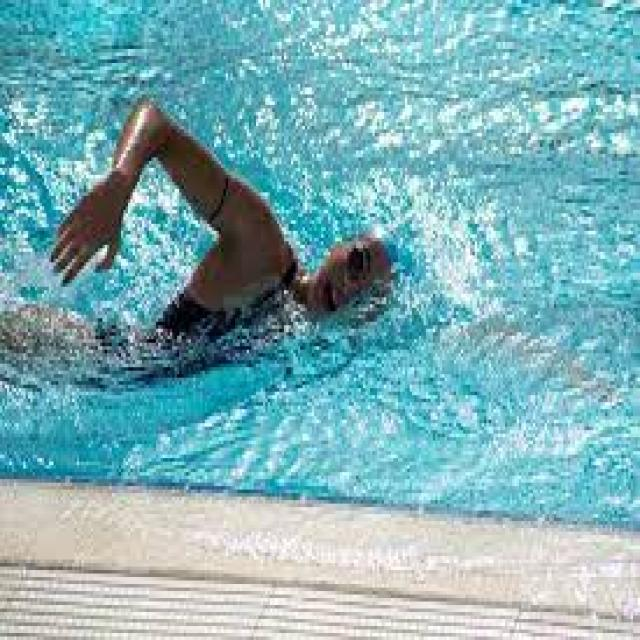Swimming: (4, 93, 401, 385)
